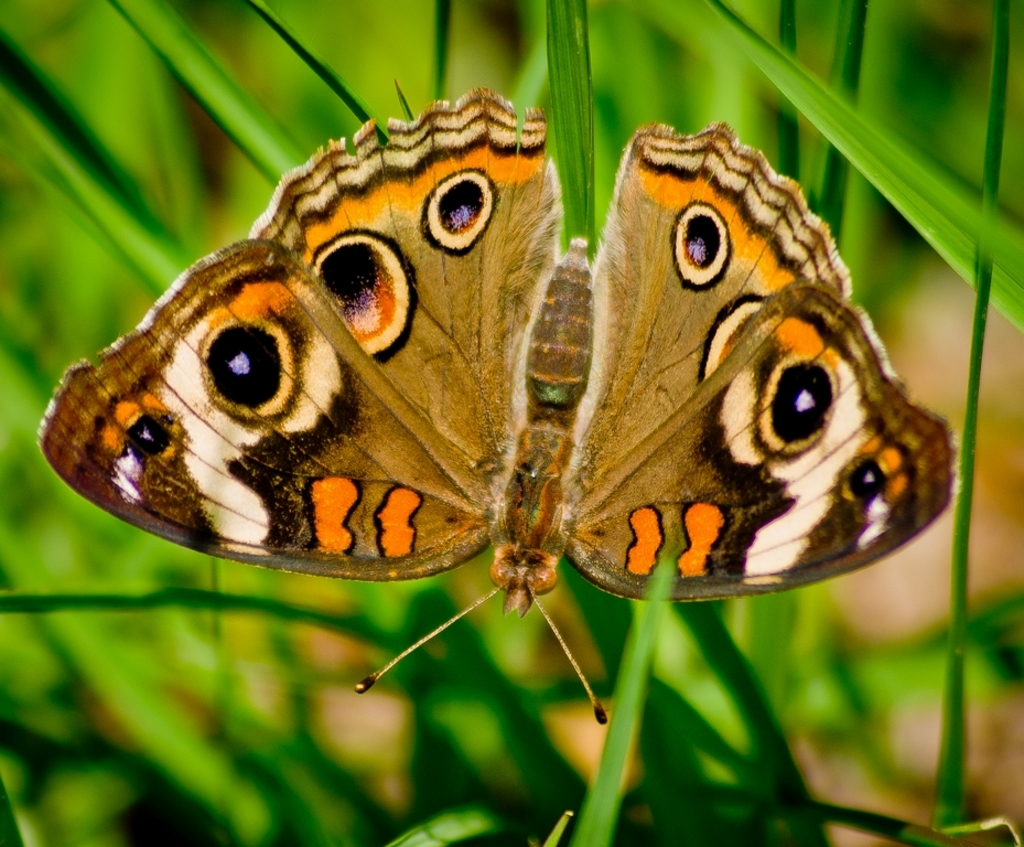Butterfly: (31, 75, 954, 692)
